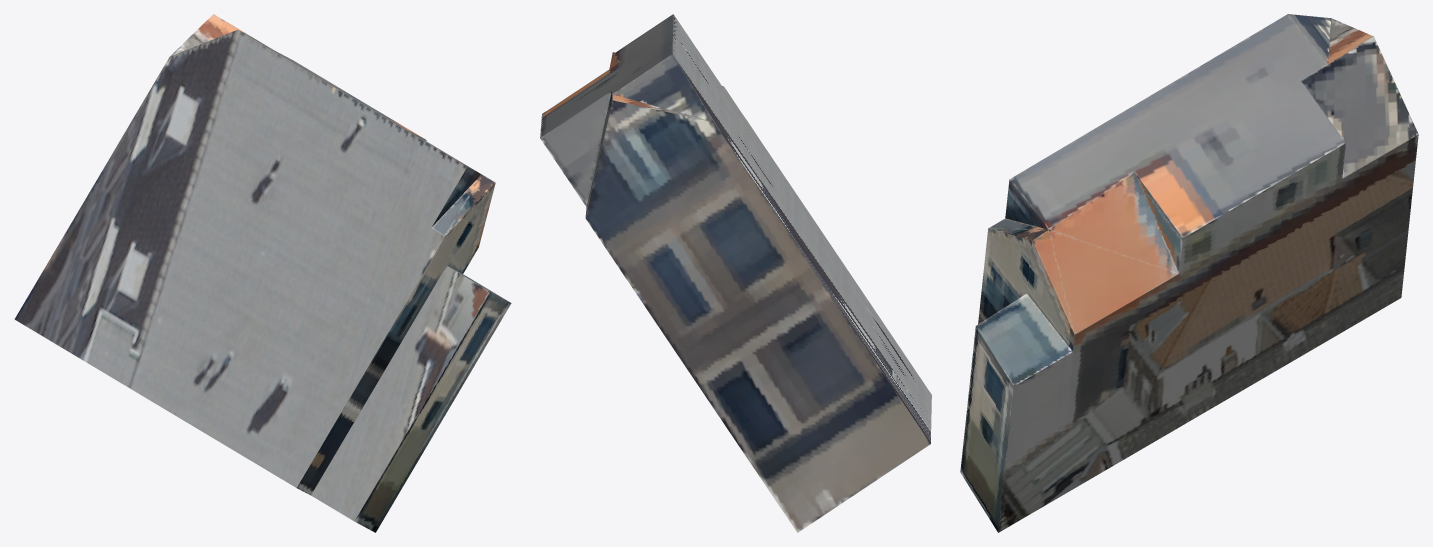
The picture shows the model from 3 angles, left to right: view 1: azimuth 30°, elevation 25°; view 2: azimuth 150°, elevation 25°; view 3: azimuth 270°, elevation 25°; orthographic projection. The views are drawn at different scales.
Visible parts, largest first — view 1: BAG_0599100000194804 (×3); view 2: BAG_0599100000194804 (×2); view 3: BAG_0599100000194804 (×4).
Part boxes in pixels (x1,y1,x2,y2): BAG_0599100000194804 (×3): (14, 14, 511, 532); BAG_0599100000194804 (×2): (540, 14, 931, 532); BAG_0599100000194804 (×4): (960, 14, 1418, 532).
Bounding box in the file's own units: 13.77 × 14.81 × 12.1.
Materials: 4 (4 with a texture image).
